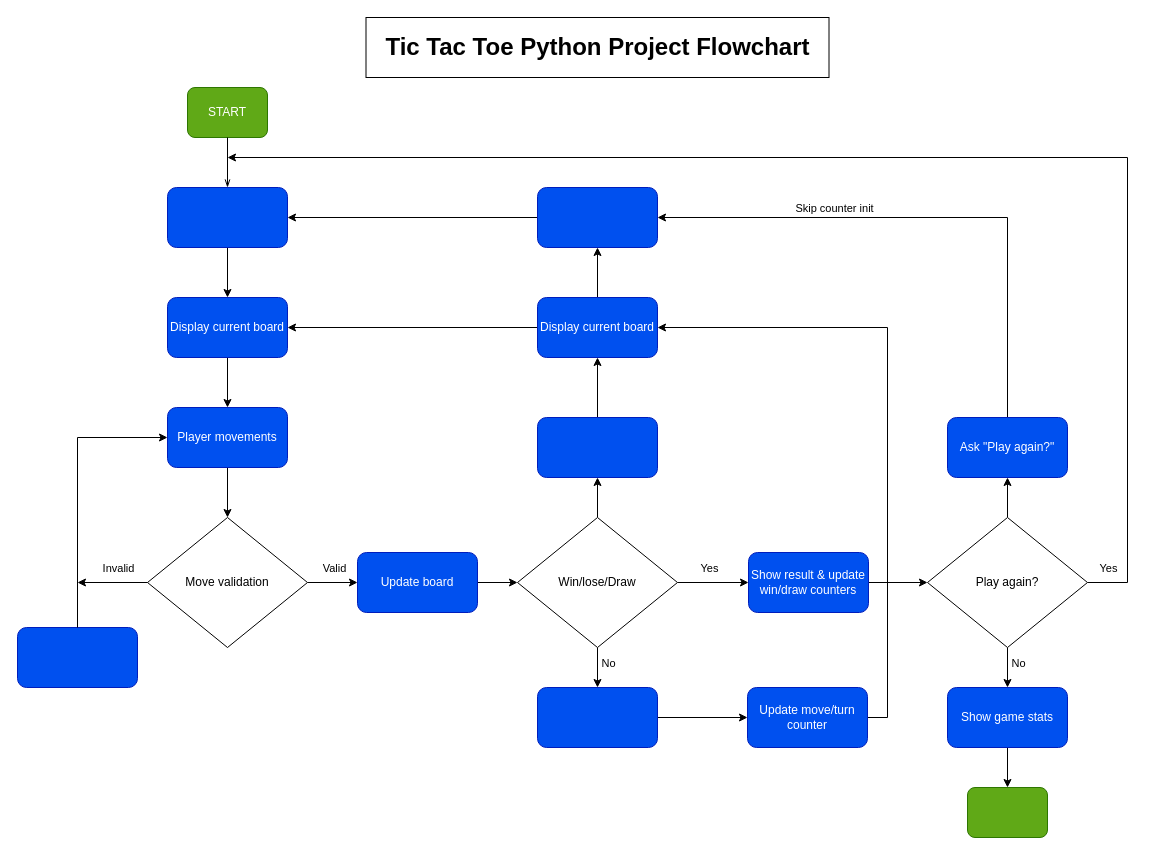
Image size: 1153x855. Some labels were removed from this diagram. Here are the shapes that lost their labels. From the top down, the centre of each, then its label:
At pixel 227 217: "Initialise board with counters".
At pixel 597 217: "Reset".
At pixel 597 447: "Check for result".
At pixel 77 657: "Invalid move".
At pixel 597 717: "Switch player".
At pixel 1007 812: "END".
